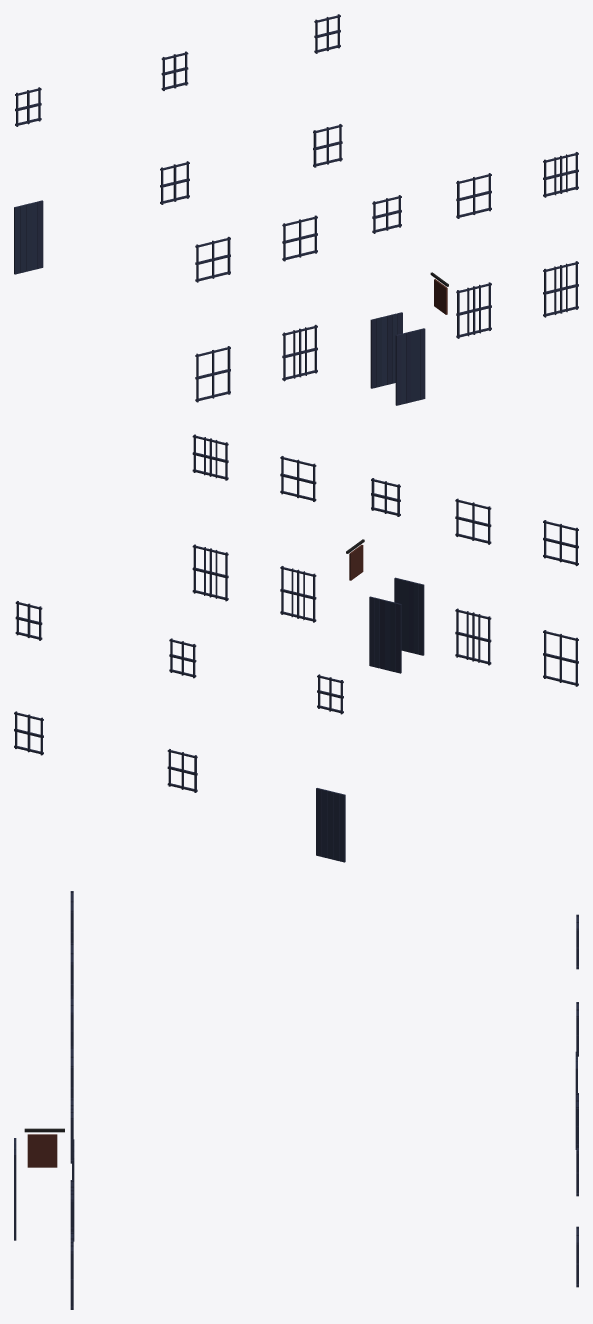
The model's file is SM_Bld_239_Wood.glb.
The picture shows the model from 3 angles, top to bottom: view 1: azimuth 30°, elevation 25°; view 2: azimuth 150°, elevation 25°; view 3: azimuth 270°, elevation 25°; orthographic projection. The views are drawn at different scales.
Parts seen in each view (by area): view 1: SM_Bld_239_Wood; view 2: SM_Bld_239_Wood; view 3: SM_Bld_239_Wood.
Boxes of the visible parts, x1=… form: SM_Bld_239_Wood: x1=14, y1=14, x2=578, y2=405; SM_Bld_239_Wood: x1=14, y1=434, x2=578, y2=862; SM_Bld_239_Wood: x1=14, y1=891, x2=578, y2=1309.
Bounding box in the file's own units: 12 × 5.59 × 12.56.
